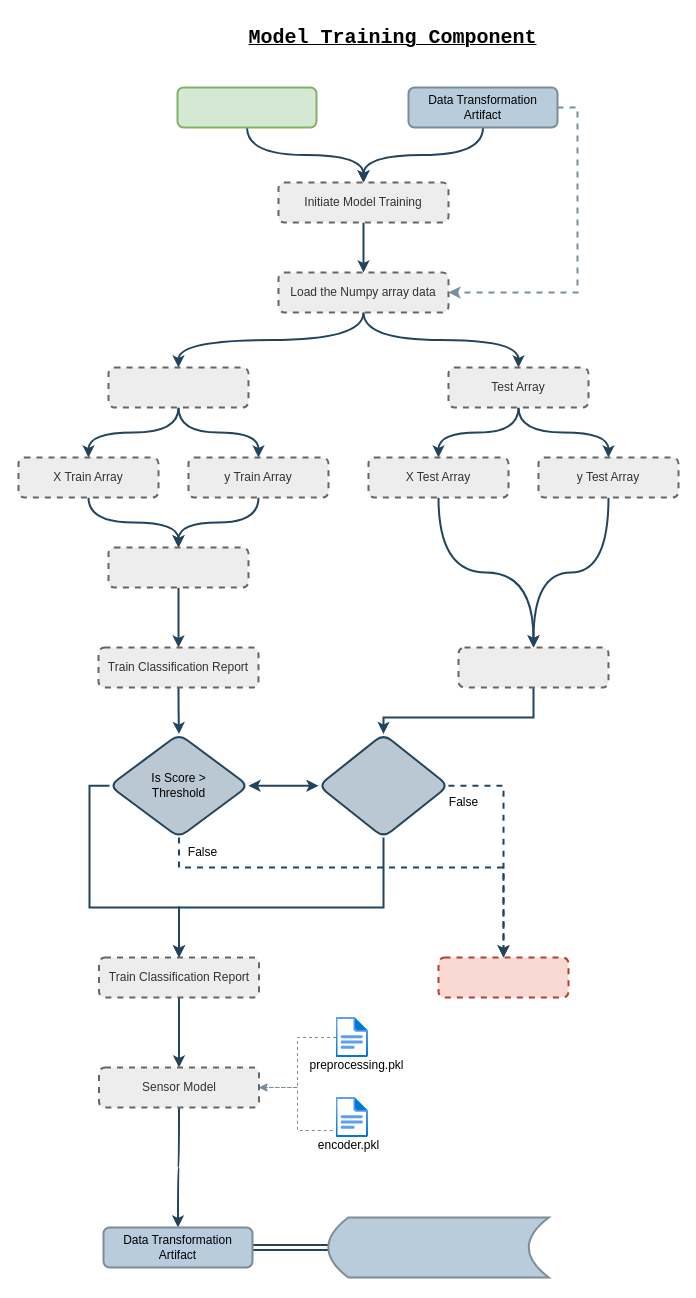
Some shapes in this 696 by 1298 pixel diagram are drawn without their labels. Here are the shapes that lost their labels. From the top down, the centre of each, then its label:
the point at 246,107: Model Training Config
the point at 178,387: Train Array
the point at 178,567: Model Training
the point at 533,667: Test Classification Report
the point at 383,785: Is Overfitting/ Underfitting detected
the point at 503,977: Unaccepted Model
the point at 438,1247: Sensor model Train Classification Report Test Classification Report
